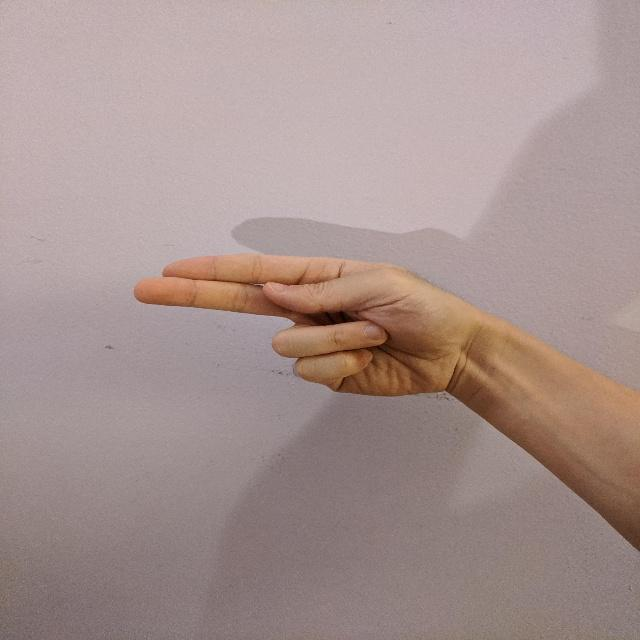H: (126, 249, 462, 403)
